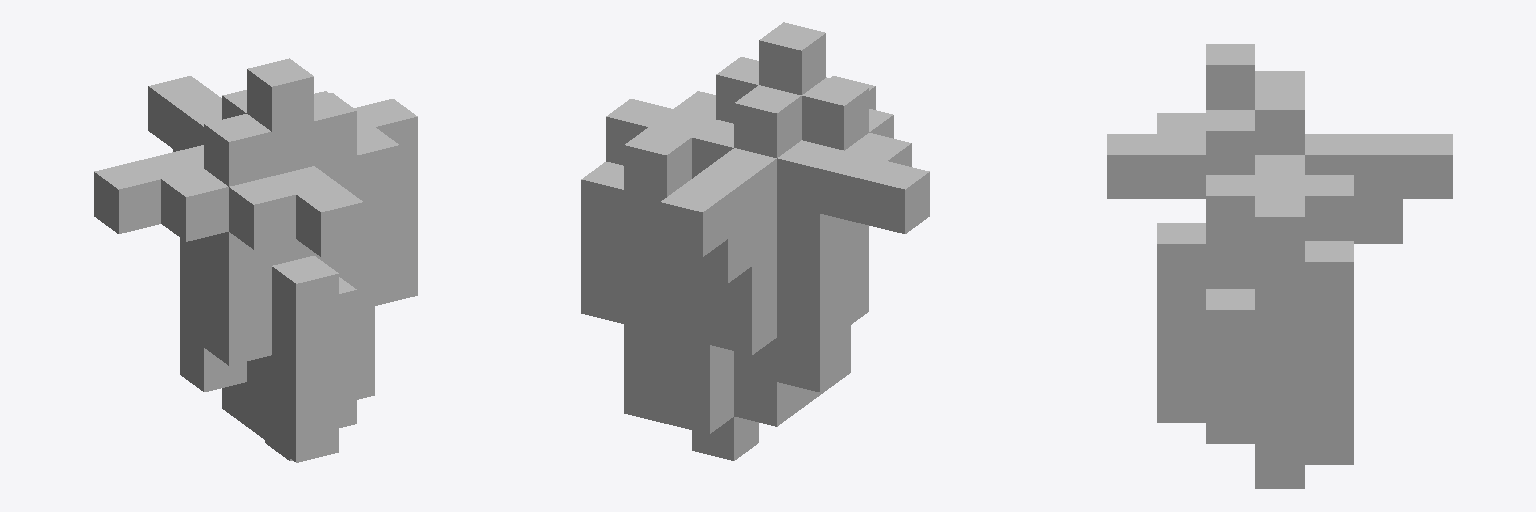
Rendered from Conchshellbullet.obj.
The picture shows the model from 3 angles: view 1: azimuth 30°, elevation 25°; view 2: azimuth 150°, elevation 25°; view 3: azimuth 270°, elevation 25°; orthographic projection.
Bounding box in the file's own units: 7 × 9 × 7.